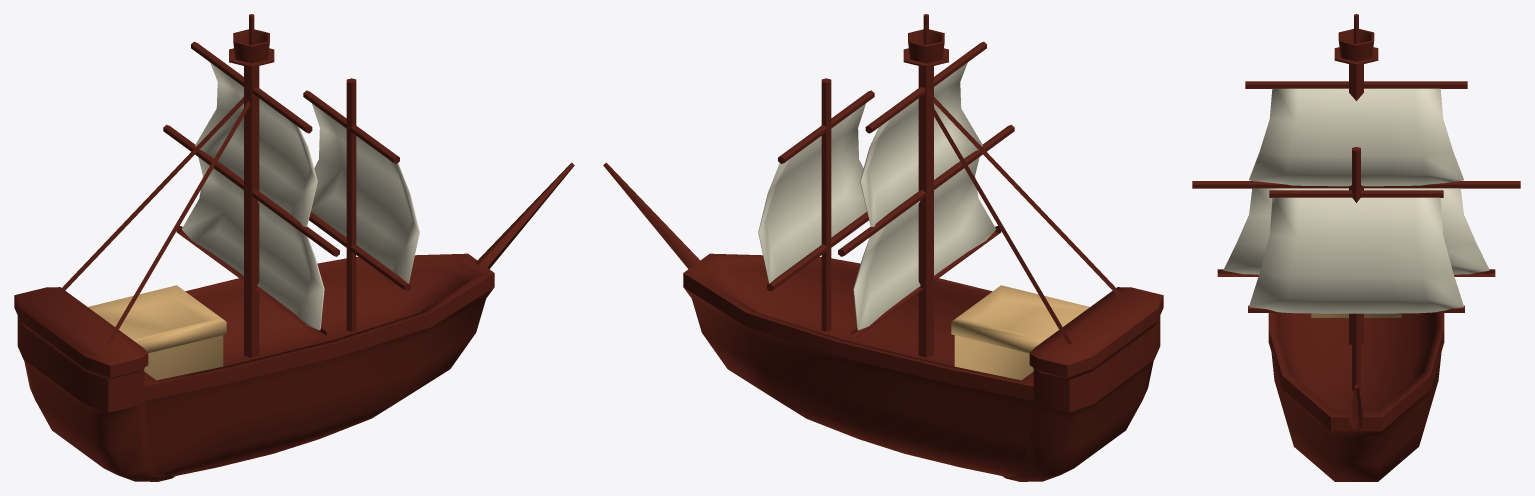
The model's file is ship.fbx.
The picture shows the model from 3 angles, left to right: view 1: azimuth 30°, elevation 25°; view 2: azimuth 150°, elevation 25°; view 3: azimuth 270°, elevation 25°; orthographic projection. The views are drawn at different scales.
Parts seen in each view (by area): view 1: Cylinder.004, Cylinder.002, Cylinder.008, Cylinder.001, Cube.002; view 2: Cylinder.004, Cylinder.002, Cylinder.008, Cylinder.001, Cube.002; view 3: Cylinder.004, Cylinder.002, Cylinder.001, Cylinder.008, Cube.002.
Part boxes in pixels (box(x1,y1,x2,y2)): Cylinder.004: box(14, 14, 574, 481); Cylinder.002: box(311, 103, 419, 283); Cylinder.008: box(181, 157, 324, 330); Cylinder.001: box(195, 62, 317, 226); Cube.002: box(88, 285, 226, 380); Cylinder.004: box(603, 14, 1163, 481); Cylinder.002: box(758, 103, 866, 283); Cylinder.008: box(853, 157, 996, 330); Cylinder.001: box(860, 62, 982, 226); Cube.002: box(951, 285, 1089, 380); Cylinder.004: box(1192, 14, 1520, 481); Cylinder.002: box(1249, 197, 1463, 313); Cylinder.001: box(1249, 88, 1463, 186); Cylinder.008: box(1223, 188, 1489, 274); Cube.002: box(1311, 313, 1401, 317).
Bounding box in the file's own units: 528 × 408 × 298.
